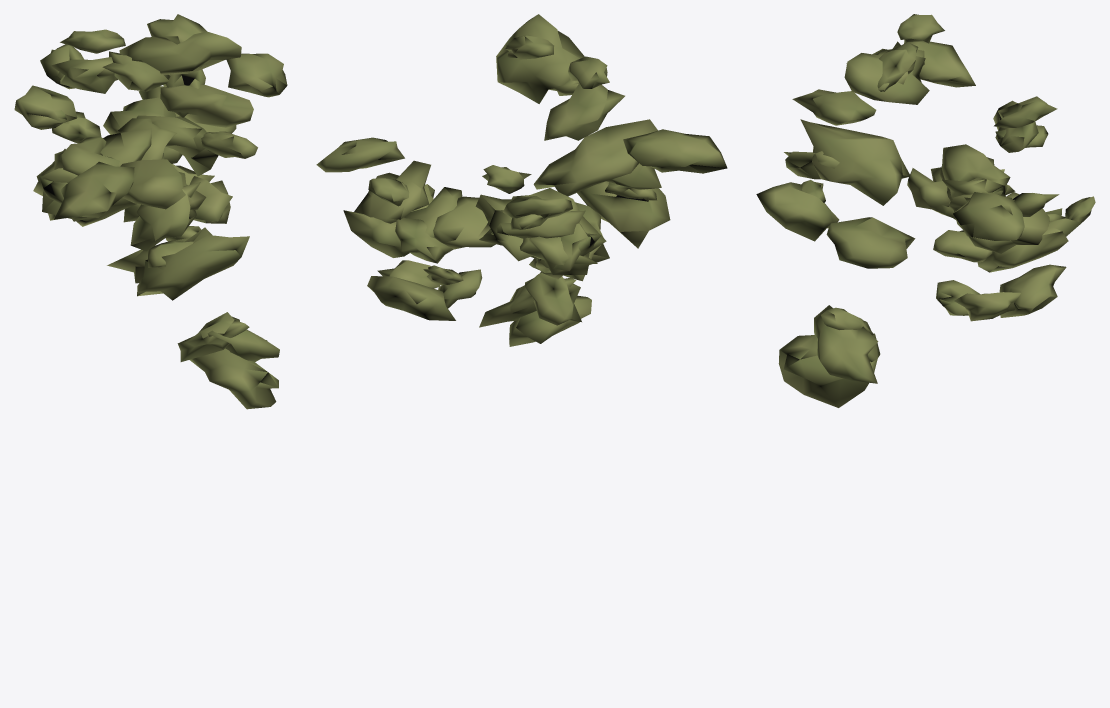
File: baum-buche-3-nah.glb
3 views of the same model, side by side, from view 1: azimuth 30°, elevation 25°; view 2: azimuth 150°, elevation 25°; view 3: azimuth 270°, elevation 25° (orthographic). The views are drawn at different scales.
Visible parts, largest first — view 1: Baum_Stamm; view 2: Baum_Stamm; view 3: Baum_Stamm.
Boxes of the visible parts, x1,y1,x2,y2 form: Baum_Stamm: [14, 14, 287, 409]; Baum_Stamm: [316, 14, 727, 346]; Baum_Stamm: [756, 14, 1095, 407].
Size of the model in its own units: 10.88 by 21.57 by 10.65.
